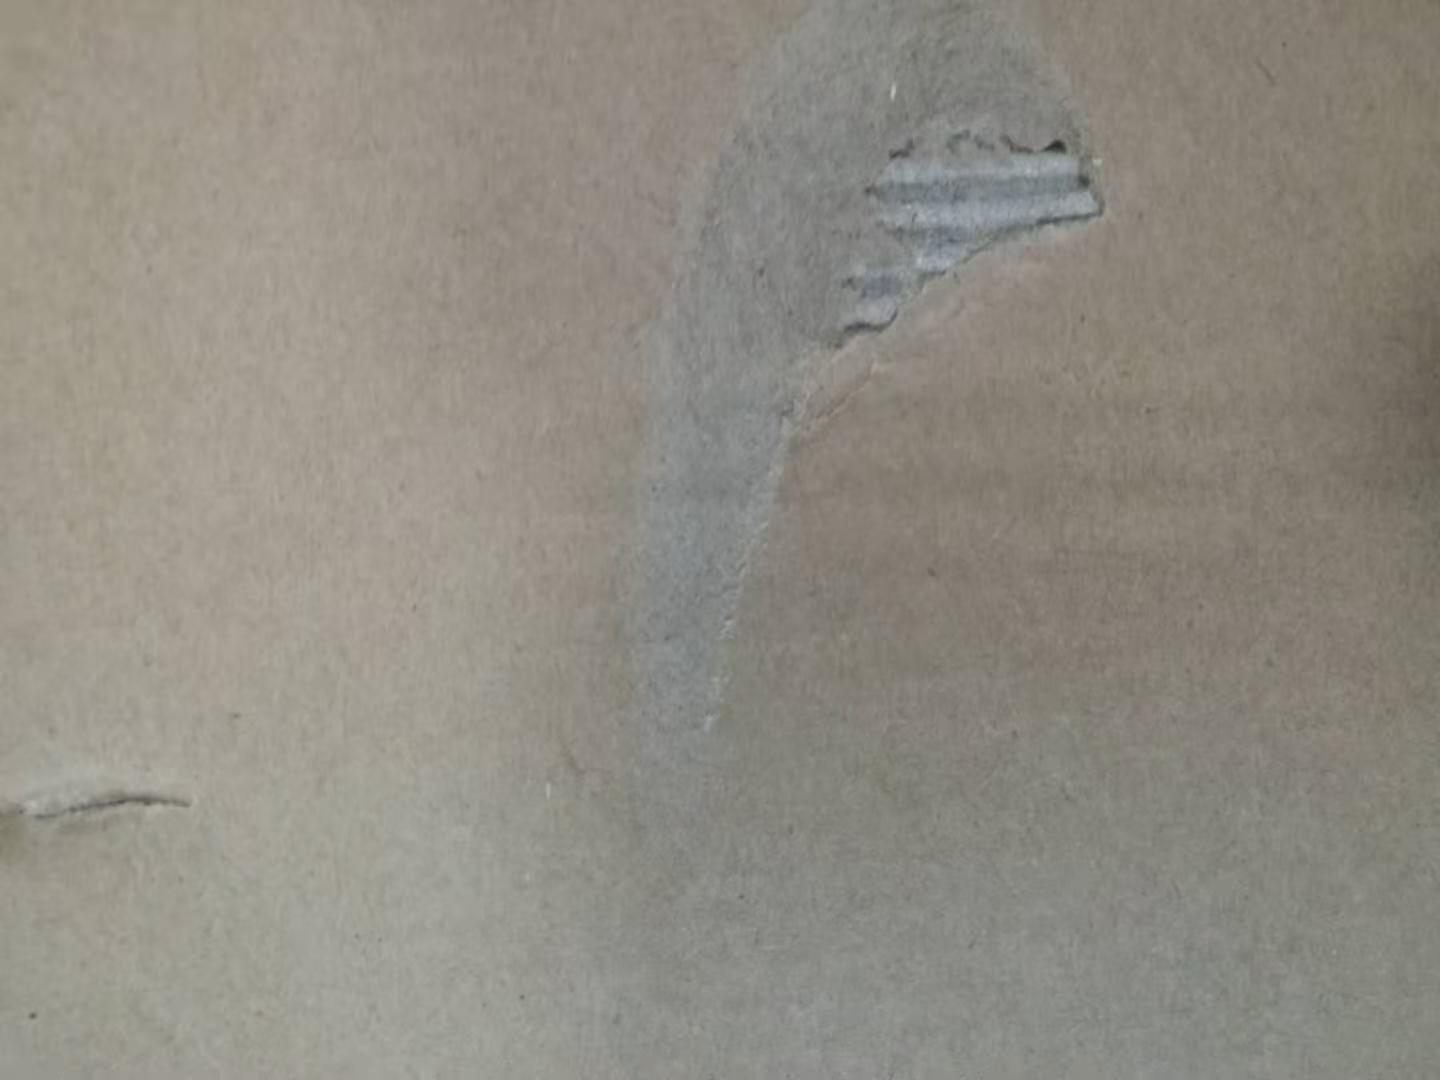defect: (570, 1, 1144, 864), (1, 751, 227, 878)
